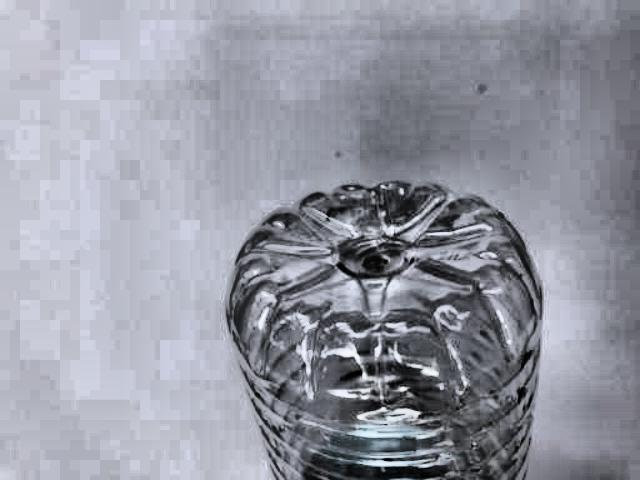Bottles: (227, 177, 547, 479)
